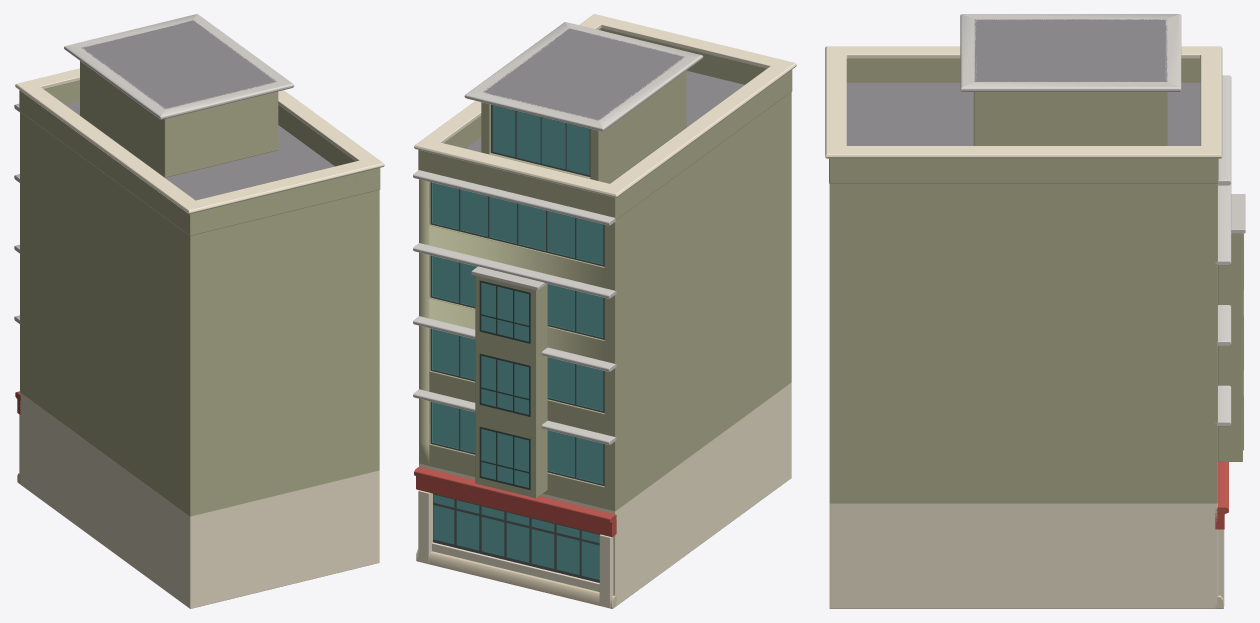
Rendered from far_stucco_olive_4.glb.
3 views of the same model, side by side, from view 1: azimuth 30°, elevation 25°; view 2: azimuth 150°, elevation 25°; view 3: azimuth 270°, elevation 25° (orthographic). The views are drawn at different scales.
Visible parts, largest first — view 1: shell, trim, penthouse; view 2: shell, trim, penthouse, props, frames, penthouse frames; view 3: shell, trim, penthouse, props.
Part boxes in pixels (x1,y1,x2,y2): shell: (20, 101, 379, 608); trim: (14, 14, 384, 483); penthouse: (80, 20, 278, 177); shell: (419, 71, 791, 606); trim: (413, 14, 796, 608); penthouse: (481, 28, 686, 183); props: (471, 266, 547, 498); frames: (430, 182, 604, 582); penthouse frames: (491, 104, 590, 176); shell: (829, 82, 1217, 608); trim: (825, 14, 1231, 608); penthouse: (973, 19, 1167, 145); props: (1218, 194, 1245, 461).
Size of the model in its own units: 9.31 by 20.12 by 15.15.
